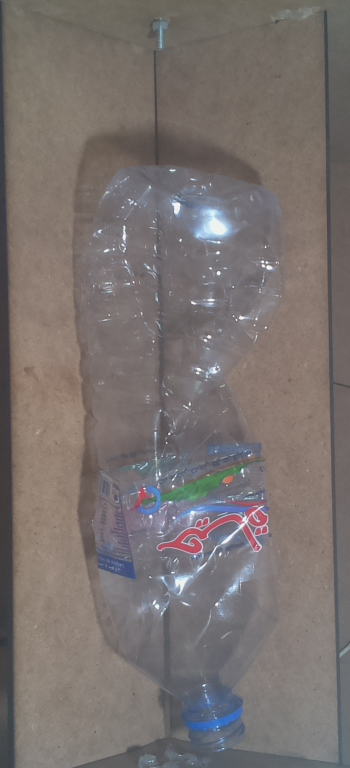Bouteille_1.5L: (74, 146, 298, 761)
